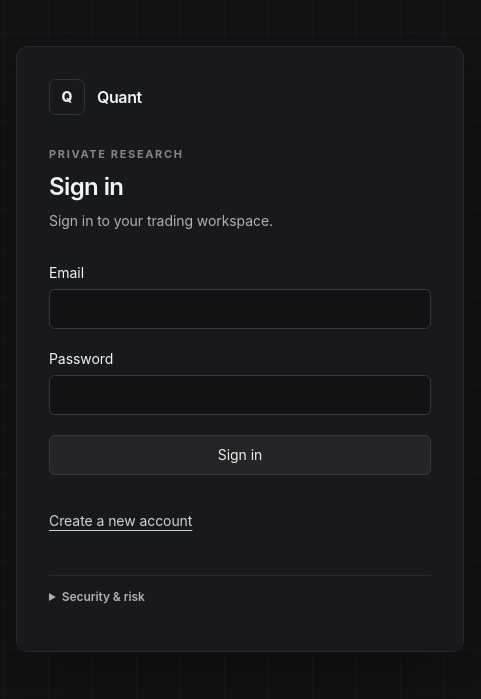
Test: PB-003 auth actions › shows actionable 403 failure without success
This screenshot has width=481, height=699.
Step 1. Type "a@example.test" into the field labelled "Email" → {"x": 240, "y": 309}, box [49, 289, 431, 329]
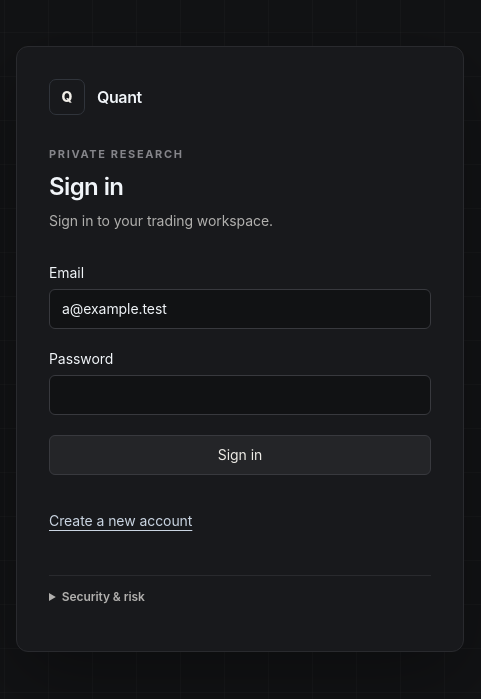
Step 2. Type "Synthetic password 123!" into the password field labelled "Password" → {"x": 240, "y": 395}, box [49, 375, 431, 415]
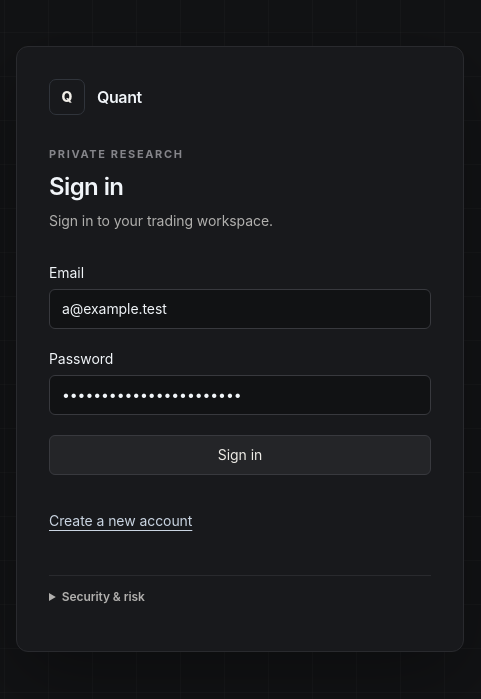
Step 3. Click the button "Sign in" → {"x": 240, "y": 455}, box [49, 435, 431, 475]
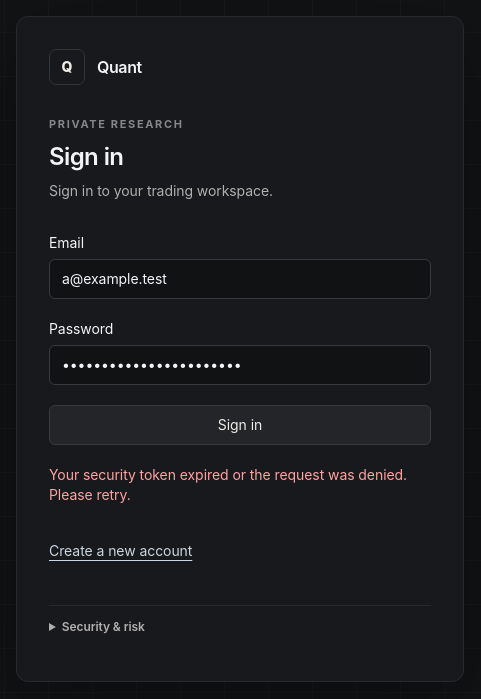
Expected: the message "Your security token expired or the request was denied. Please retry." is shown, [49, 465, 431, 505]
